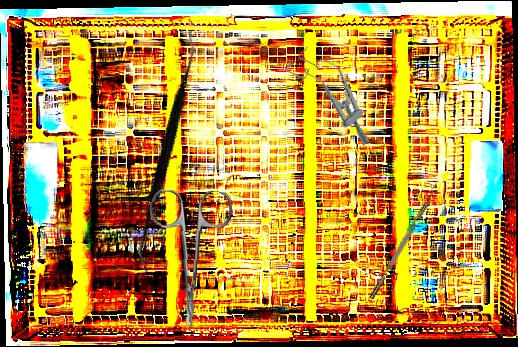Chopper: (363, 183, 440, 300)
Iris Scissors: (145, 189, 233, 330)
Spatula Surgical: (75, 30, 262, 273)
Speculum: (282, 39, 389, 152)
